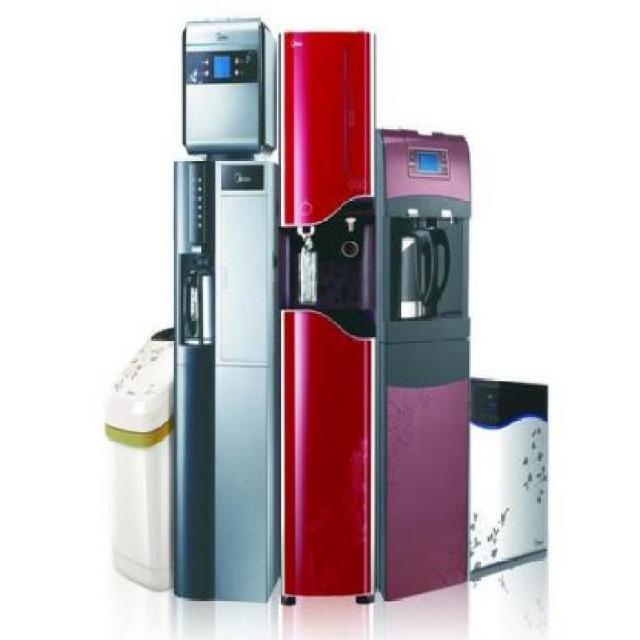cooler: (172, 12, 281, 602), (280, 26, 380, 611), (377, 125, 471, 604)
